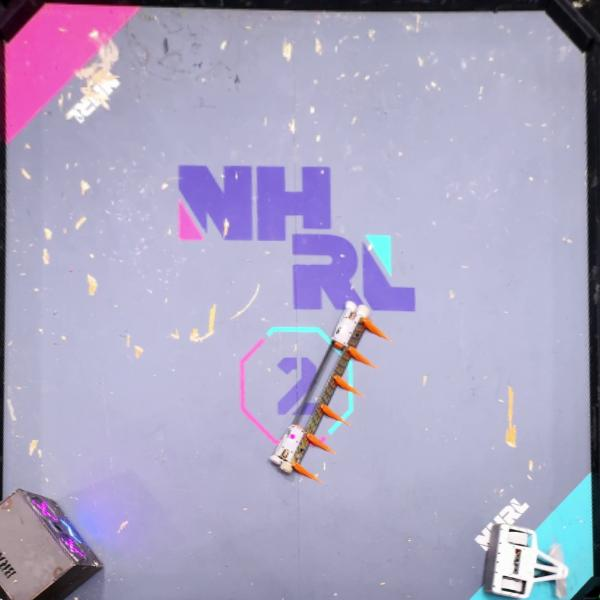housebot: (0, 487, 104, 600)
robot: (263, 300, 392, 485), (481, 520, 570, 600)
